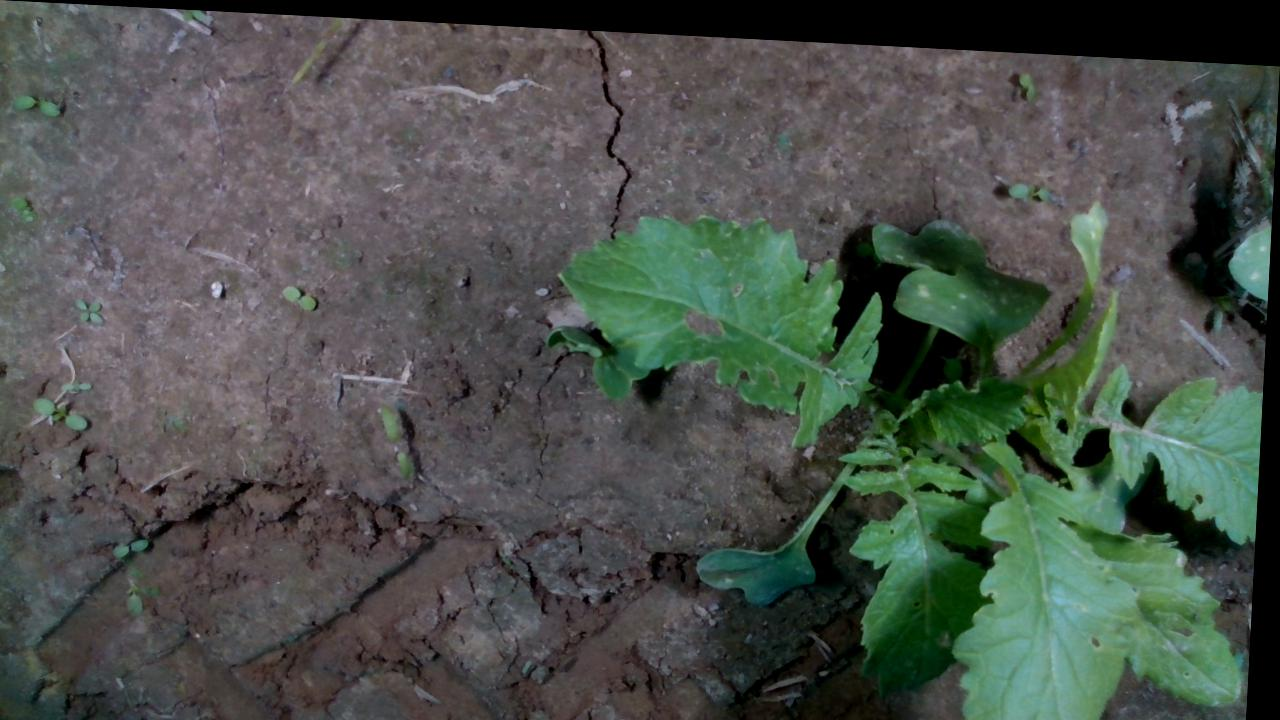weed: (377, 394, 424, 480), (34, 395, 94, 429), (12, 92, 64, 116), (1006, 168, 1055, 190), (116, 532, 156, 558), (282, 279, 320, 306), (74, 296, 108, 324), (1016, 57, 1037, 92), (12, 195, 39, 221), (62, 376, 96, 392)
